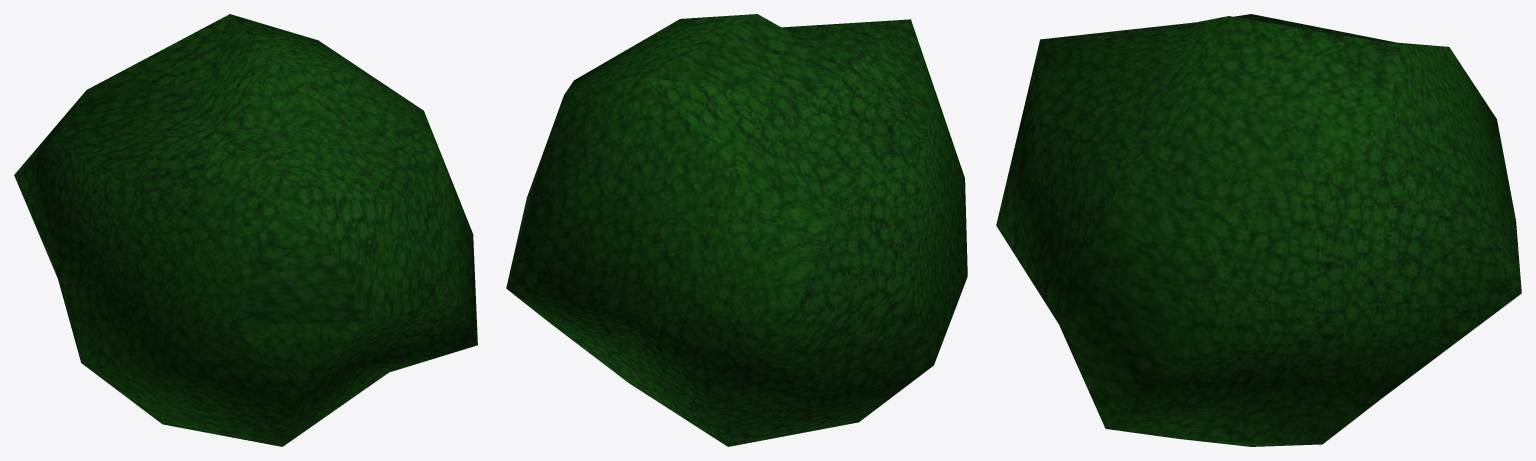
The model's file is tree_1_top.obj.
The picture shows the model from 3 angles, left to right: view 1: azimuth 30°, elevation 25°; view 2: azimuth 150°, elevation 25°; view 3: azimuth 270°, elevation 25°; orthographic projection. The views are drawn at different scales.
Parts seen in each view (by area): view 1: Icosphere; view 2: Icosphere; view 3: Icosphere.
Part boxes in pixels (box(x1,y1,x2,y2)): Icosphere: box(14, 14, 477, 446); Icosphere: box(506, 14, 967, 446); Icosphere: box(996, 14, 1521, 446).
Size of the model in its own units: 4.03 by 3.94 by 4.33.
Materials: 1 (1 with a texture image).
